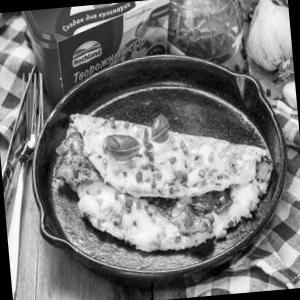omelet: (35, 86, 286, 263)
